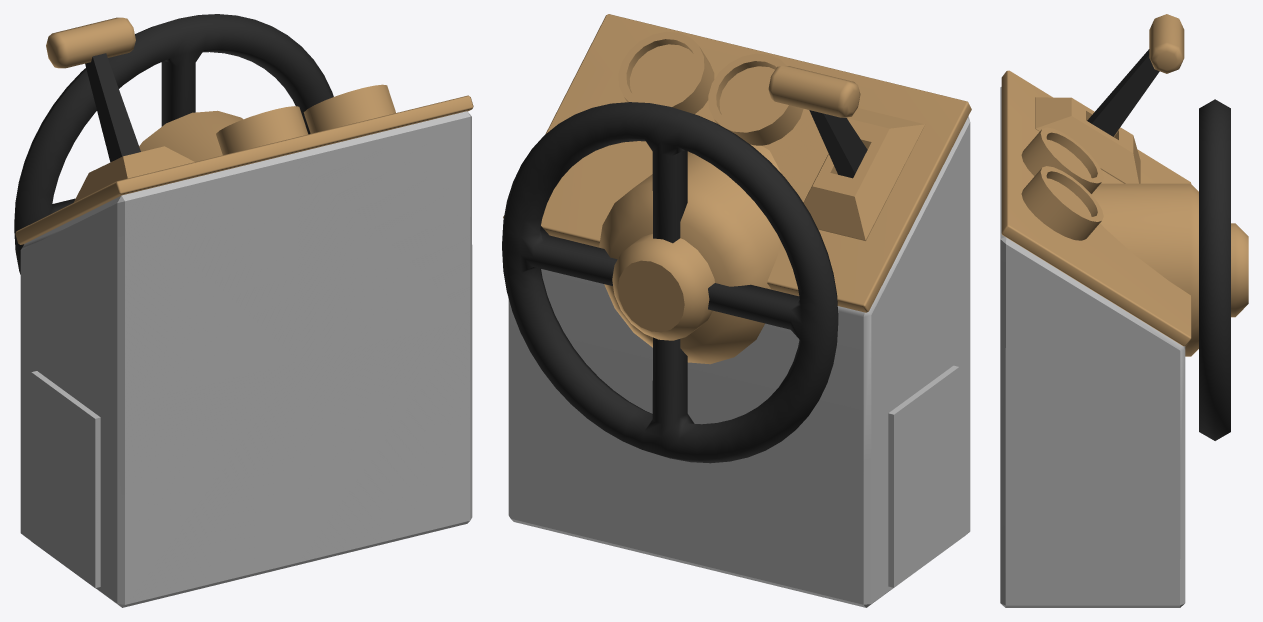
Rendered from control_panel.fbx.
The picture shows the model from 3 angles, left to right: view 1: azimuth 30°, elevation 25°; view 2: azimuth 150°, elevation 25°; view 3: azimuth 270°, elevation 25°; orthographic projection. The views are drawn at different scales.
Visible parts, largest first — view 1: control_panel; view 2: control_panel; view 3: control_panel.
Part boxes in pixels (left/top/right/bottom): control_panel: left=14, top=14, right=473, bottom=607; control_panel: left=502, top=14, right=971, bottom=607; control_panel: left=1000, top=14, right=1248, bottom=607.
Size of the model in its own units: 102 by 135 by 67.14.
